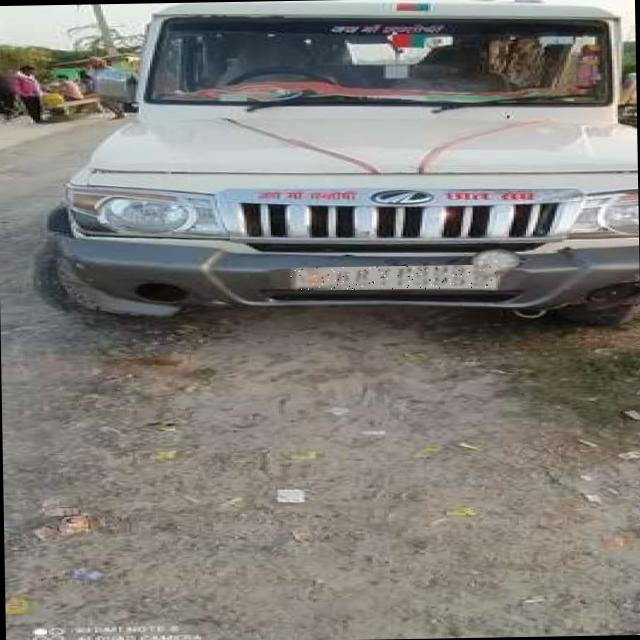Plate: (292, 265, 497, 292)
